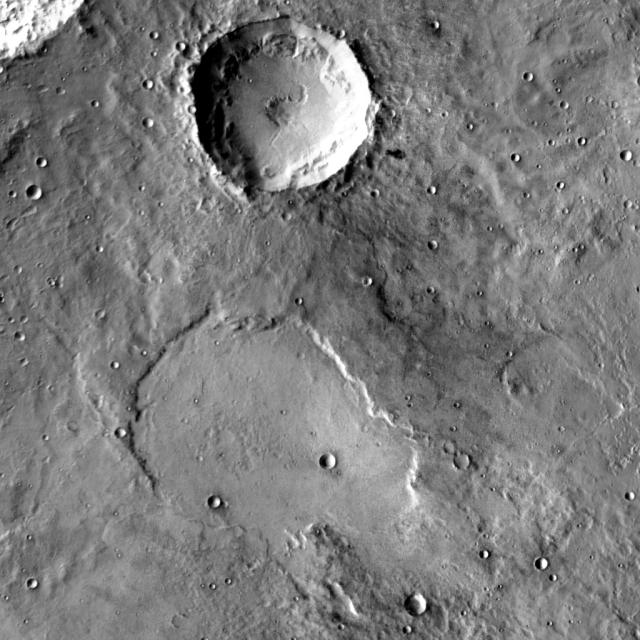crater: (134, 313, 372, 537), (193, 21, 375, 193), (407, 596, 431, 618), (456, 454, 474, 470), (28, 186, 44, 202), (322, 455, 338, 470), (538, 558, 552, 572), (209, 499, 223, 511), (446, 444, 458, 456), (145, 118, 156, 129), (623, 152, 635, 162), (39, 159, 50, 169), (143, 274, 154, 284), (430, 241, 440, 251), (284, 213, 294, 223), (29, 580, 39, 590), (16, 332, 26, 342), (16, 266, 26, 276), (27, 207, 37, 217), (146, 81, 156, 90), (117, 429, 127, 438), (96, 311, 106, 320), (95, 401, 105, 410), (374, 191, 383, 200), (629, 493, 638, 502), (526, 74, 536, 82), (562, 102, 572, 110), (178, 44, 188, 52), (482, 552, 492, 560), (70, 422, 78, 432), (580, 138, 589, 146), (366, 279, 375, 287), (405, 628, 414, 636), (58, 89, 67, 97), (426, 16, 434, 24), (340, 31, 348, 39), (153, 32, 161, 40), (11, 192, 19, 200), (22, 360, 30, 368), (430, 287, 438, 295), (559, 183, 567, 191), (626, 202, 634, 209), (514, 156, 522, 163), (431, 188, 438, 196), (190, 107, 198, 114), (113, 362, 121, 369), (15, 310, 22, 318), (223, 502, 231, 509), (552, 577, 560, 584), (613, 102, 621, 109), (86, 94, 93, 100), (92, 241, 99, 247), (384, 105, 391, 111), (581, 91, 588, 97), (356, 421, 364, 426), (292, 347, 300, 352)
